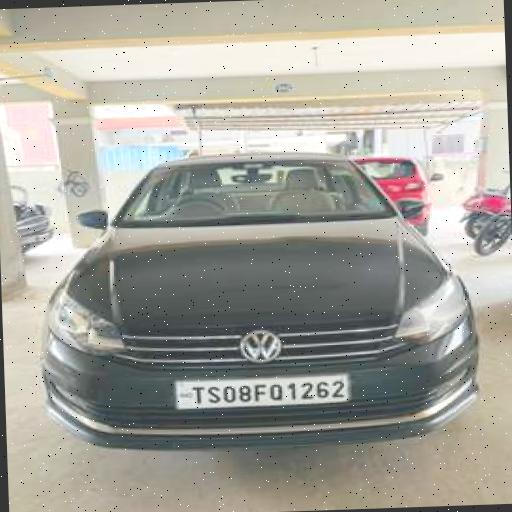license_plate`: (170, 372, 348, 406)
